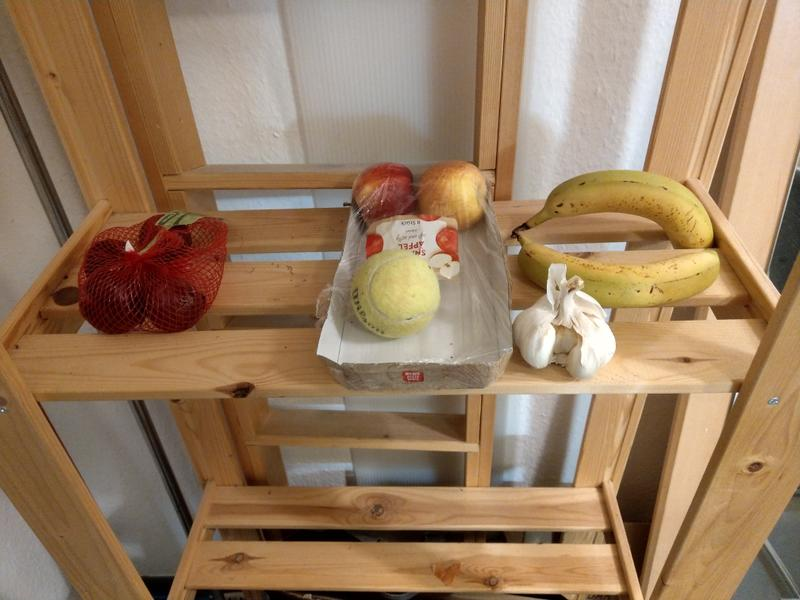Tennisball: (347, 247, 443, 341)
